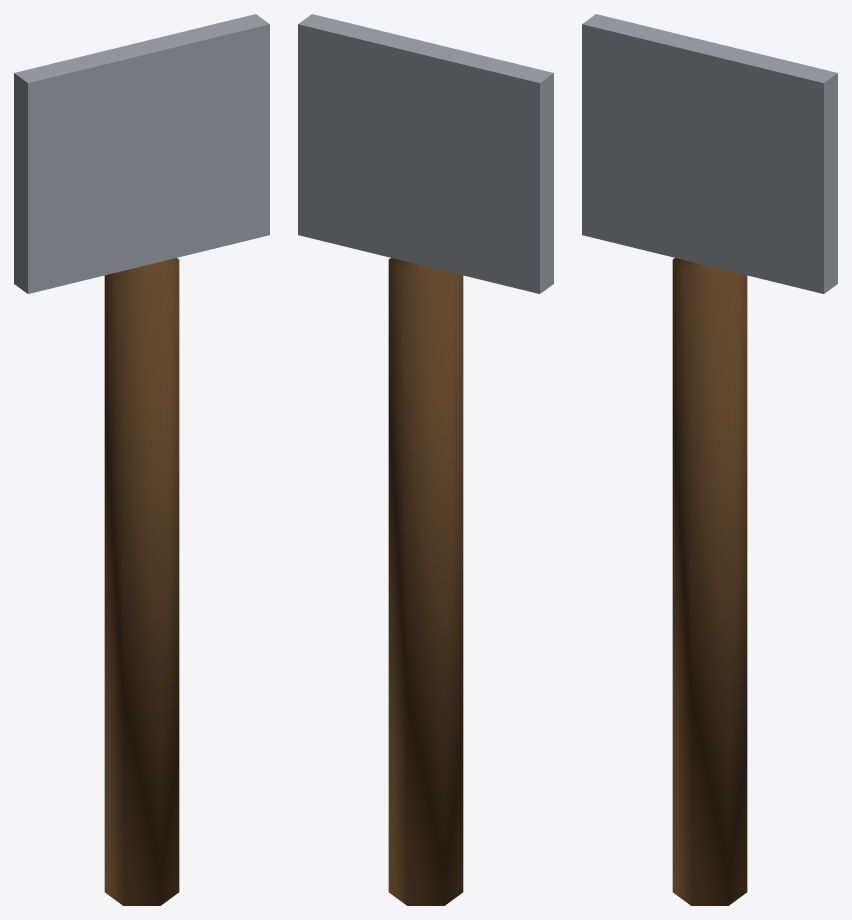
Rendered from paint_scraper.glb.
3 views of the same model, side by side, from view 1: azimuth 30°, elevation 25°; view 2: azimuth 150°, elevation 25°; view 3: azimuth 330°, elevation 25° (orthographic).
Parts seen in each view (by area): view 1: paint_scraper_v0; view 2: paint_scraper_v0; view 3: paint_scraper_v0.
Part boxes in pixels (left/top/right/bottom): paint_scraper_v0: left=14, top=14, right=269, bottom=905; paint_scraper_v0: left=298, top=14, right=553, bottom=905; paint_scraper_v0: left=582, top=14, right=837, bottom=905.
Bounding box in the file's own units: 0.12 × 0.4 × 0.032.
